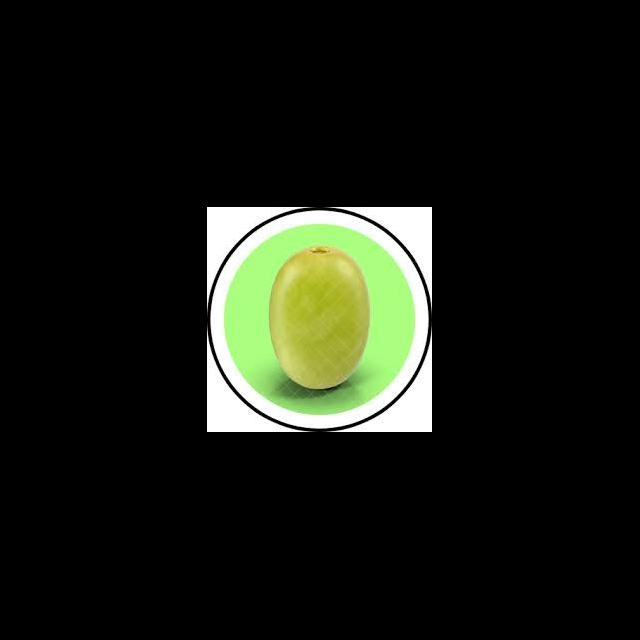grape: (268, 246, 370, 390)
